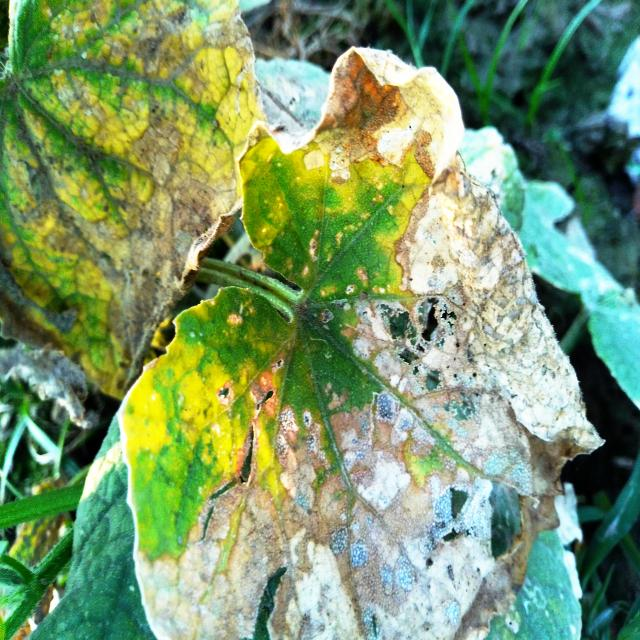Gummy-Stem-Blight: (134, 44, 611, 640), (6, 88, 243, 396)
